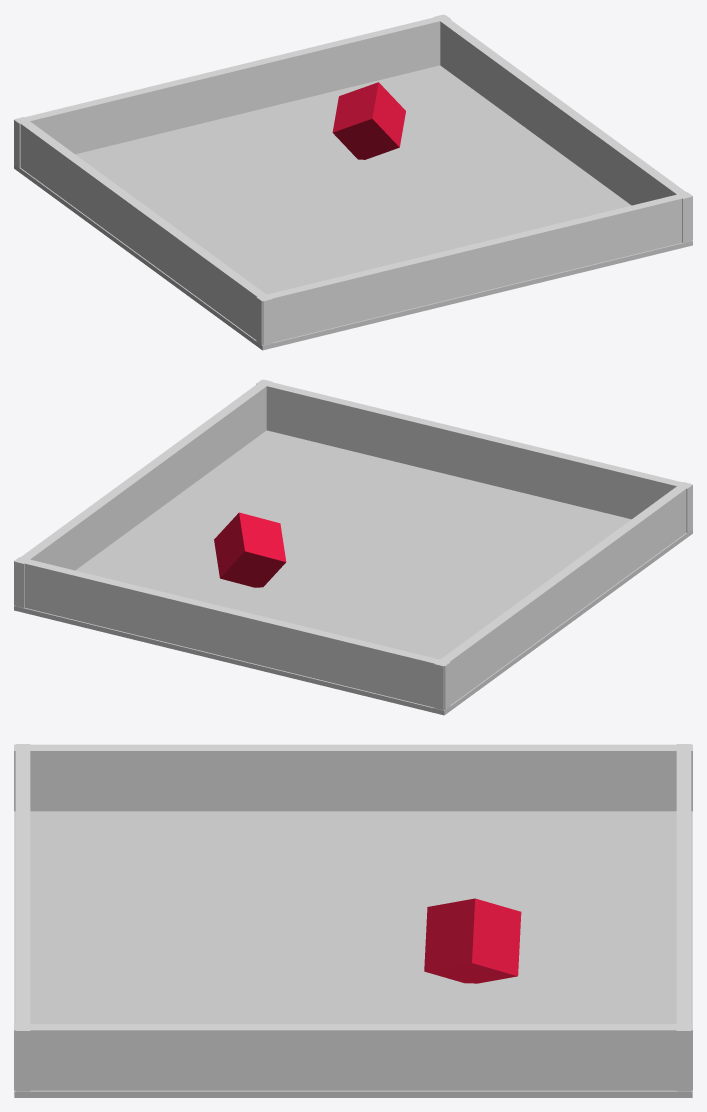
The model's file is container.glb.
The picture shows the model from 3 angles, top to bottom: view 1: azimuth 30°, elevation 25°; view 2: azimuth 150°, elevation 25°; view 3: azimuth 270°, elevation 25°; orthographic projection. The views are drawn at different scales.
Parts seen in each view (by area): view 1: StaticFloor, StaticWall4, StaticWall2, StaticWallB1, StaticWall3, Cube; view 2: StaticFloor, StaticWall2, StaticWall4, StaticWallB1, StaticWall3, Cube; view 3: StaticFloor, StaticWallB1, StaticWall3, Cube, StaticWall4, StaticWall2.
Boxes of the visible parts, left/top/right/bottom form: StaticFloor: left=14, top=65, right=692, bottom=350; StaticWall4: left=256, top=192, right=692, bottom=345; StaticWall2: left=14, top=15, right=450, bottom=167; StaticWallB1: left=14, top=117, right=272, bottom=345; StaticWall3: left=434, top=14, right=692, bottom=242; Cube: left=332, top=82, right=405, bottom=159; StaticFloor: left=14, top=430, right=692, bottom=715; StaticWall2: left=14, top=557, right=450, bottom=710; StaticWall4: left=256, top=380, right=692, bottom=532; StaticWallB1: left=434, top=482, right=692, bottom=710; StaticWall3: left=14, top=379, right=272, bottom=607; Cube: left=214, top=512, right=286, bottom=587; StaticFloor: left=14, top=811, right=692, bottom=1097; StaticWallB1: left=14, top=744, right=692, bottom=811; StaticWall3: left=14, top=1024, right=692, bottom=1090; Cube: left=424, top=898, right=521, bottom=983; StaticWall4: left=15, top=744, right=30, bottom=1091; StaticWall2: left=676, top=744, right=691, bottom=1091.
Size of the model in its own units: 20.43 by 3.41 by 20.43.
